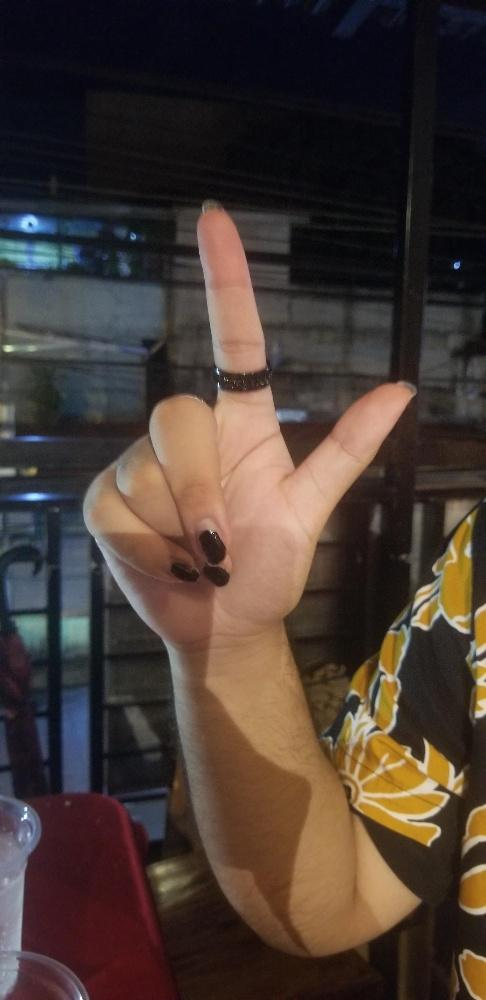l: (80, 198, 416, 643)
